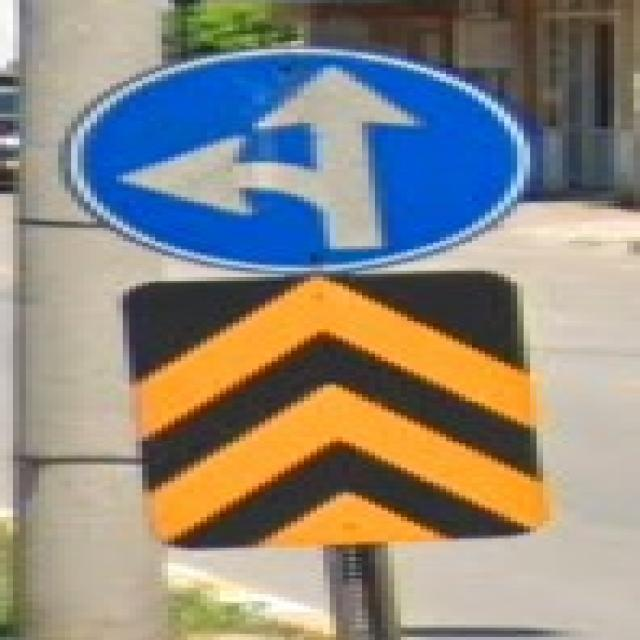Straight or Left: (59, 47, 538, 272)
